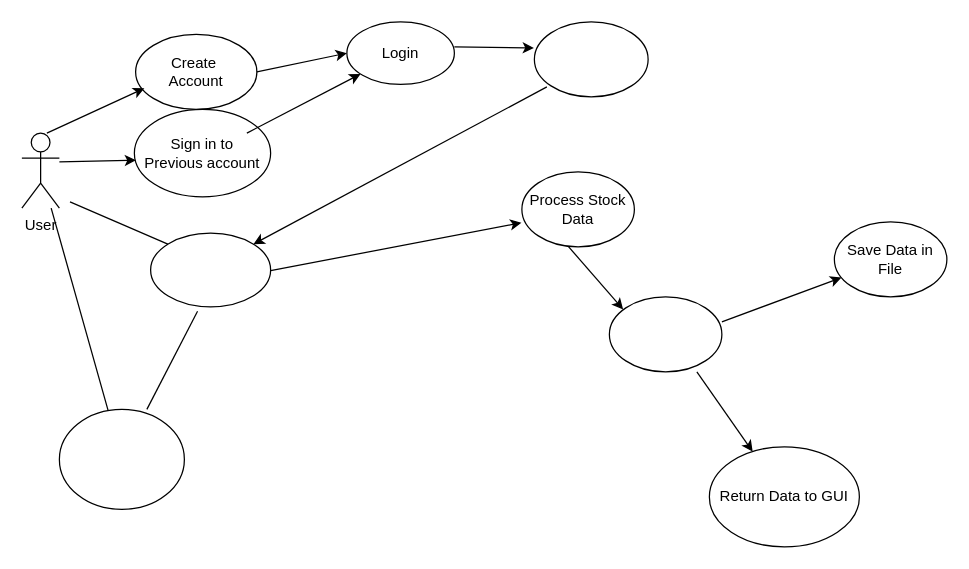
Image size: 969x569. Some labels were removed from this diagram. The shapes that lost their labels are listed below. From the top down, each one's centre as x and y in pixels, then its label:
point (590, 59): Connect to Stock API
point (210, 269): Acquire Stock Data
point (665, 334): Make Prediction
point (121, 458): User Submits Personal (local) CSV file
